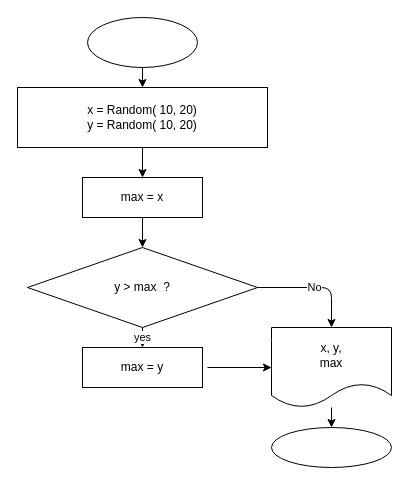
Some shapes in this 409 by 485 pixel diagram are drawn without their labels. Each missing label, with the centre of its shape:
"End" goes at point (331, 447).
"Start" goes at point (142, 42).
